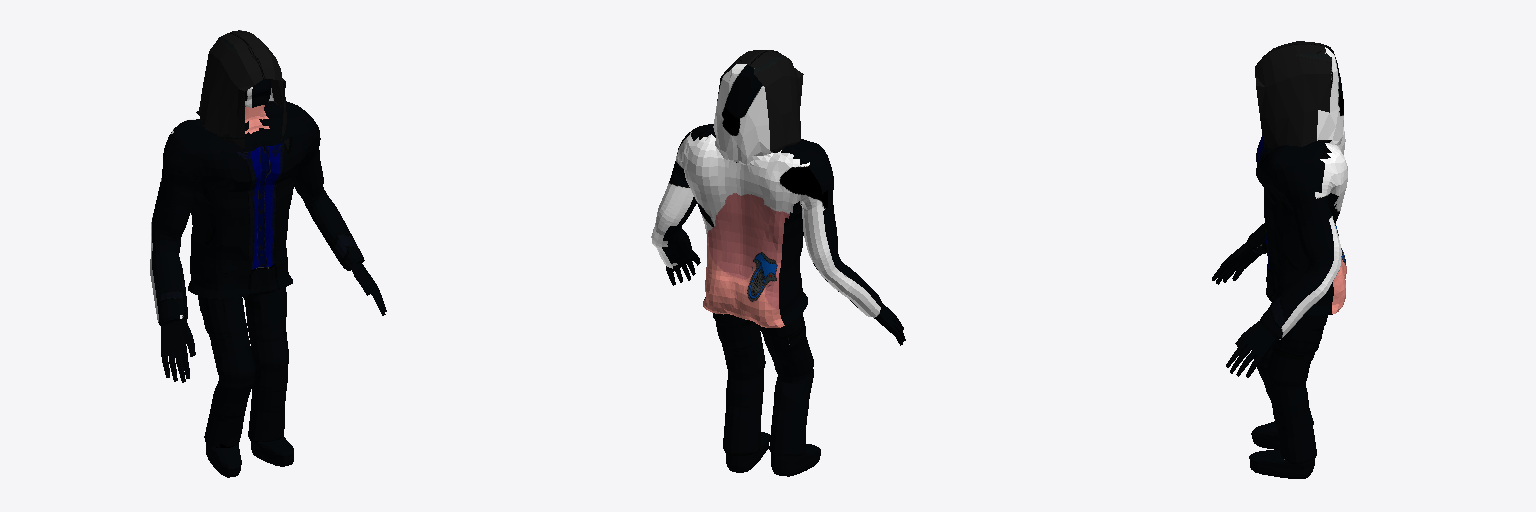
3 views of the same model, side by side, from view 1: azimuth 30°, elevation 25°; view 2: azimuth 150°, elevation 25°; view 3: azimuth 270°, elevation 25° (orthographic).
Visible parts, largest first — view 1: pasted__polySurface71 group4; view 2: pasted__polySurface71 group4; view 3: pasted__polySurface71 group4.
Part boxes in pixels (x1,y1,x2,y2): pasted__polySurface71 group4: (150,30,386,477); pasted__polySurface71 group4: (651,50,905,476); pasted__polySurface71 group4: (1212,41,1347,478).
Bounding box in the file's own units: 7.21 × 12.9 × 3.8.
Materials: 1 (1 with a texture image).